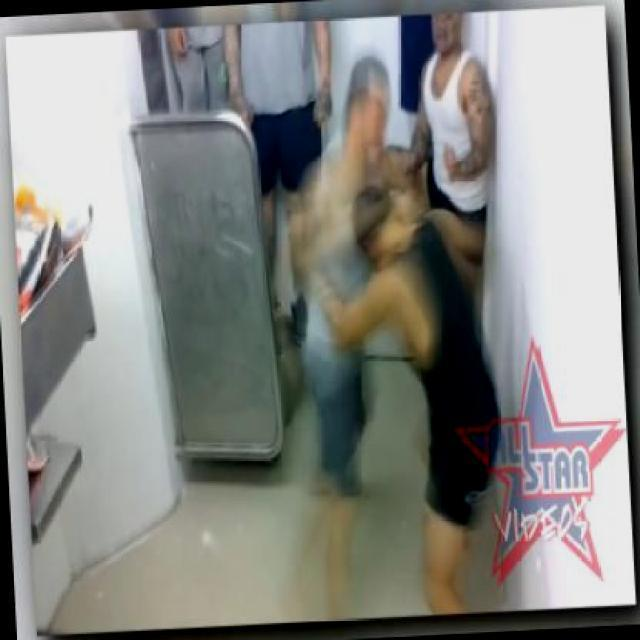fight: (289, 52, 469, 591)
